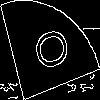O: (25, 24, 71, 76)
